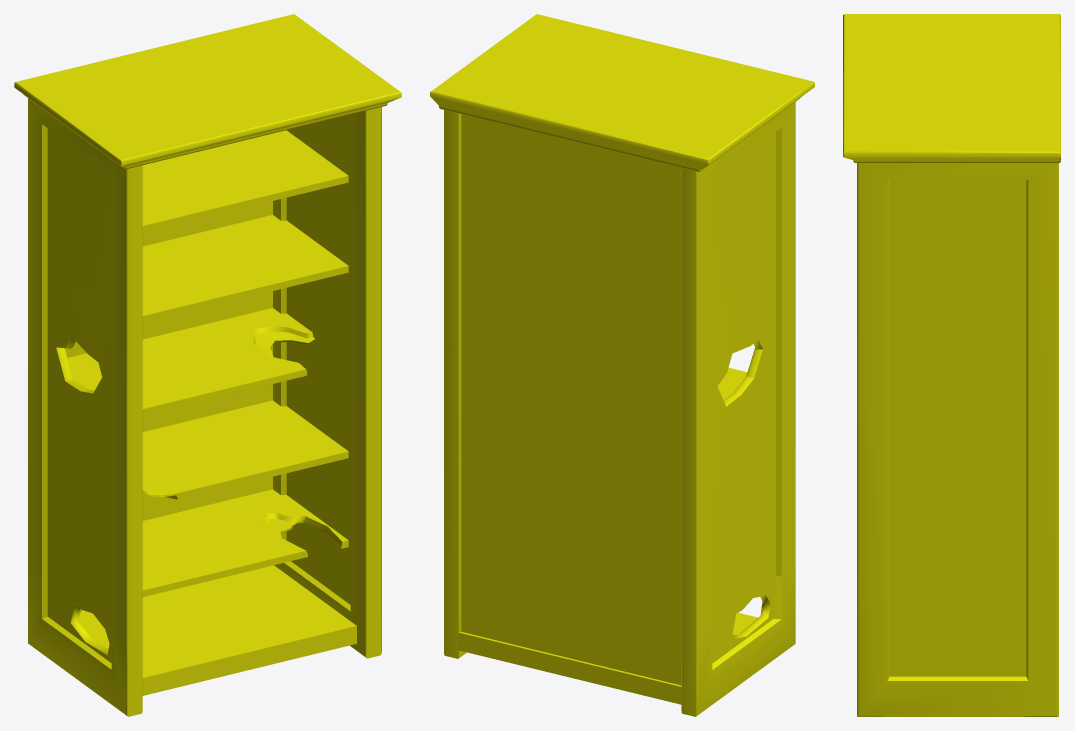
Rendered from SM_BookShelf.fbx.
3 views of the same model, side by side, from view 1: azimuth 30°, elevation 25°; view 2: azimuth 150°, elevation 25°; view 3: azimuth 270°, elevation 25° (orthographic).
Visible parts, largest first — view 1: SM_BookShelf; view 2: SM_BookShelf; view 3: SM_BookShelf.
Boxes of the visible parts, x1,y1,x2,y2 form: SM_BookShelf: [14, 14, 401, 716]; SM_BookShelf: [430, 14, 814, 716]; SM_BookShelf: [843, 14, 1060, 716].
Size of the model in its own units: 147 by 282 by 97.3.
